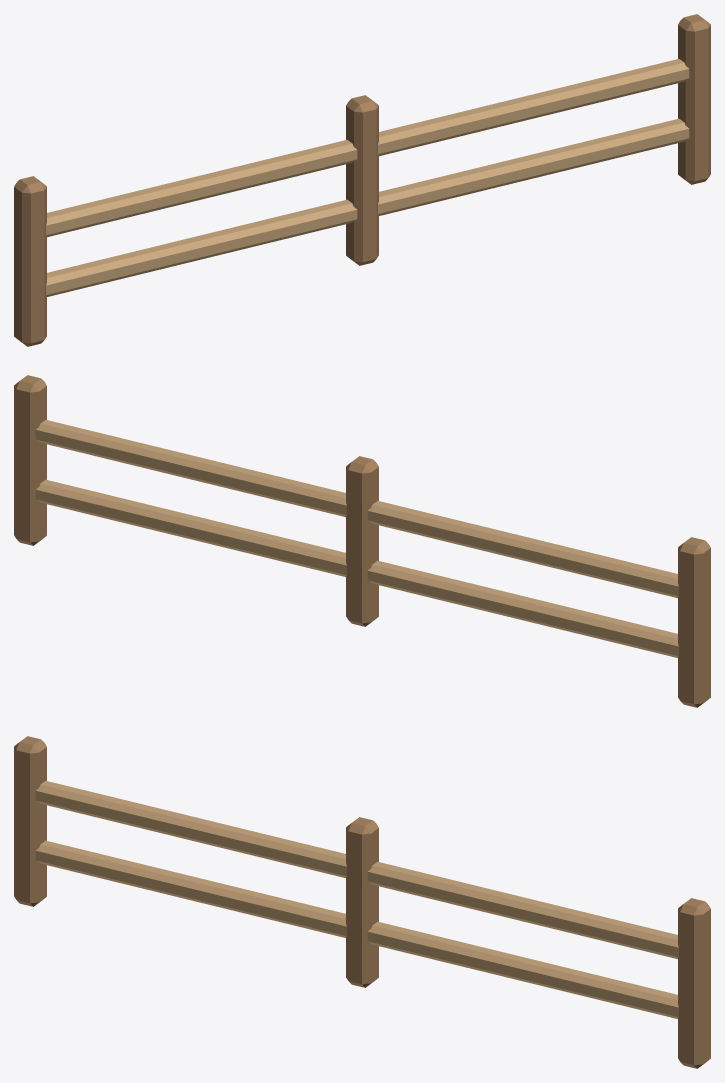
3 renders of one model, top to bottom at view 1: azimuth 30°, elevation 25°; view 2: azimuth 150°, elevation 25°; view 3: azimuth 330°, elevation 25°, orthographic.
Visible parts, largest first — view 1: LOD2_RURAL_FENCE_Rail, LOD2_RURAL_FENCE_Rail.001, LOD2_RURAL_FENCE_Post, LOD2_RURAL_FENCE_Post.002, LOD2_RURAL_FENCE_Post.001; view 2: LOD2_RURAL_FENCE_Rail, LOD2_RURAL_FENCE_Rail.001, LOD2_RURAL_FENCE_Post, LOD2_RURAL_FENCE_Post.002, LOD2_RURAL_FENCE_Post.001; view 3: LOD2_RURAL_FENCE_Rail, LOD2_RURAL_FENCE_Rail.001, LOD2_RURAL_FENCE_Post.002, LOD2_RURAL_FENCE_Post, LOD2_RURAL_FENCE_Post.001.
Part boxes in pixels (<box>): LOD2_RURAL_FENCE_Rail: <box>46,118,689,296</box>; LOD2_RURAL_FENCE_Rail.001: <box>46,59,689,237</box>; LOD2_RURAL_FENCE_Post: <box>14,176,46,346</box>; LOD2_RURAL_FENCE_Post.002: <box>678,14,710,184</box>; LOD2_RURAL_FENCE_Post.001: <box>346,95,378,265</box>; LOD2_RURAL_FENCE_Rail: <box>35,479,678,657</box>; LOD2_RURAL_FENCE_Rail.001: <box>35,420,678,598</box>; LOD2_RURAL_FENCE_Post: <box>678,537,710,707</box>; LOD2_RURAL_FENCE_Post.002: <box>14,375,46,545</box>; LOD2_RURAL_FENCE_Post.001: <box>346,456,378,626</box>; LOD2_RURAL_FENCE_Rail: <box>35,840,678,1018</box>; LOD2_RURAL_FENCE_Rail.001: <box>35,781,678,959</box>; LOD2_RURAL_FENCE_Post.002: <box>678,898,710,1068</box>; LOD2_RURAL_FENCE_Post: <box>14,736,46,906</box>; LOD2_RURAL_FENCE_Post.001: <box>346,817,378,987</box>.
Size of what is drawn, in the model's own units: 6.02 by 1.35 by 0.22.
